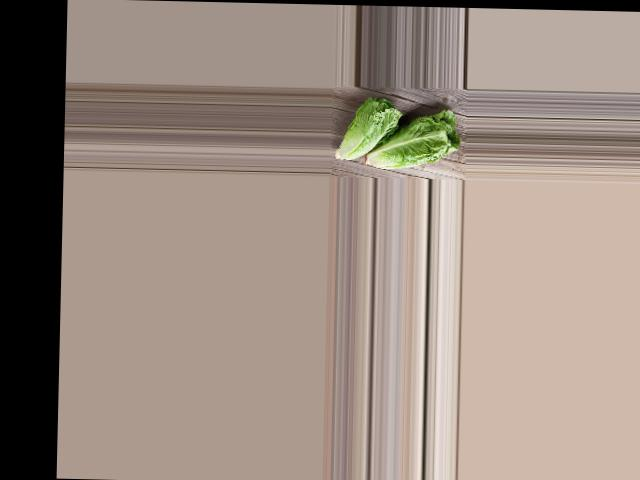lettuce: (330, 90, 404, 164)
